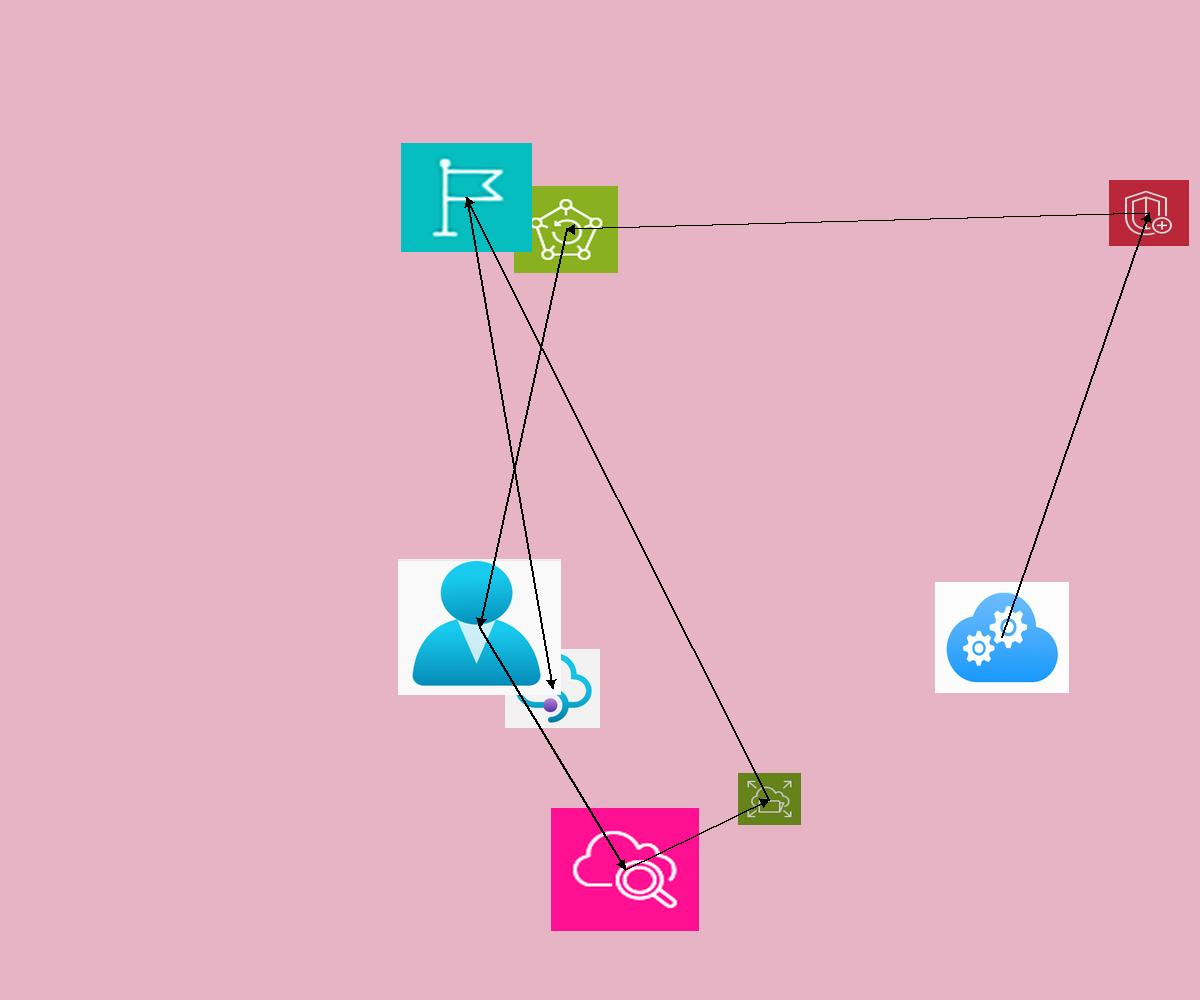AWS-Backup: (514, 186, 618, 273)
AWS-CloudWatch: (551, 808, 699, 931)
AWS-EFS: (738, 773, 801, 825)
AWS-Region: (401, 143, 532, 252)
AWS-Shield: (1109, 180, 1189, 246)
Azure_api_gateway: (505, 649, 600, 728)
Azure_cloud_services: (935, 582, 1069, 693)
Azure_users: (398, 559, 561, 695)
